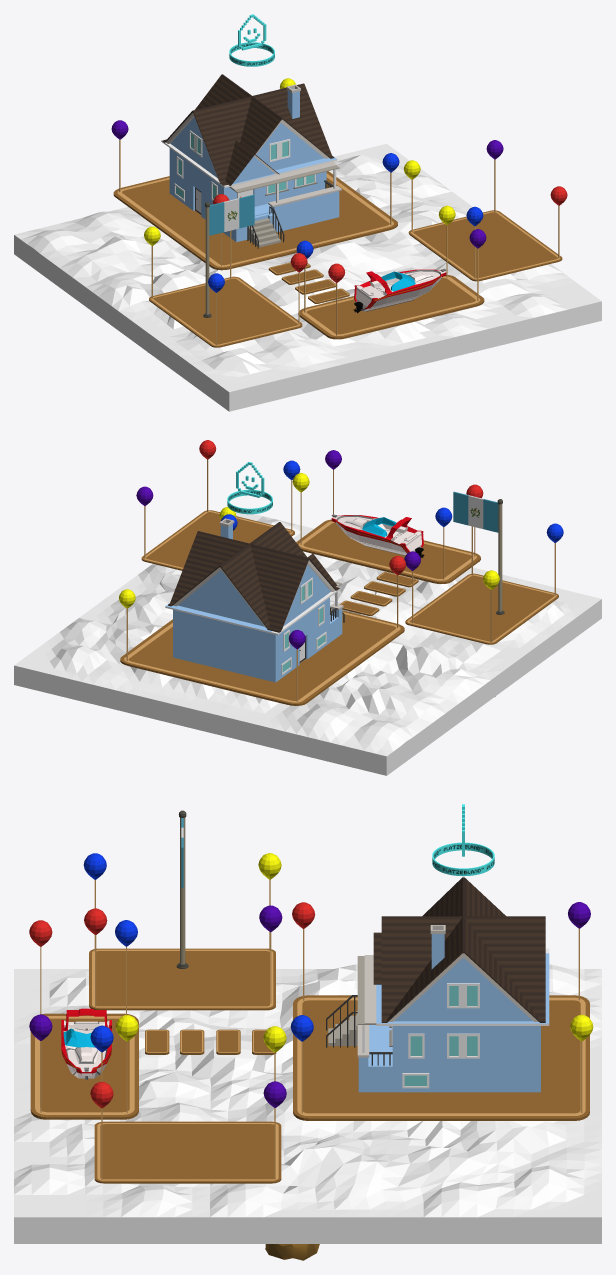
3 renders of one model, top to bottom at view 1: azimuth 30°, elevation 25°; view 2: azimuth 150°, elevation 25°; view 3: azimuth 270°, elevation 25°, orthographic. The views are drawn at different scales.
Parts seen in each view (by area): view 1: Cube.013, Cube.1594, VEHICLES_BOAT, OBJRANDOM_GUATEMALAN_FLAG, TYPE_PREMIUM; view 2: Cube.013, Cube.1594, VEHICLES_BOAT, OBJRANDOM_GUATEMALAN_FLAG, TYPE_PREMIUM; view 3: Cube.013, Cube.1594, VEHICLES_BOAT, TYPE_PREMIUM, OBJRANDOM_GUATEMALAN_FLAG, UNDERGROUND_T_REX_BONES.
Boxes of the visible parts, x1=… form: Cube.013: x1=14, y1=78, x2=601, y2=411; Cube.1594: x1=161, y1=74, x2=341, y2=248; VEHICLES_BOAT: x1=353, y1=268, x2=446, y2=313; OBJRANDOM_GUATEMALAN_FLAG: x1=203, y1=194, x2=254, y2=317; TYPE_PREMIUM: x1=229, y1=14, x2=274, y2=66; Cube.013: x1=14, y1=440, x2=601, y2=775; Cube.1594: x1=165, y1=518, x2=344, y2=682; VEHICLES_BOAT: x1=331, y1=514, x2=424, y2=558; OBJRANDOM_GUATEMALAN_FLAG: x1=453, y1=491, x2=504, y2=614; TYPE_PREMIUM: x1=227, y1=462, x2=272, y2=514; Cube.013: x1=14, y1=853, x2=601, y2=1243; Cube.1594: x1=326, y1=877, x2=549, y2=1092; VEHICLES_BOAT: x1=61, y1=1008, x2=111, y2=1079; TYPE_PREMIUM: x1=432, y1=804, x2=494, y2=876; OBJRANDOM_GUATEMALAN_FLAG: x1=176, y1=810, x2=188, y2=968; UNDERGROUND_T_REX_BONES: x1=265, y1=1244, x2=319, y2=1260.
Bounding box in the file's own units: 4000 × 2556 × 4000.
34 materials, 2 textured.
